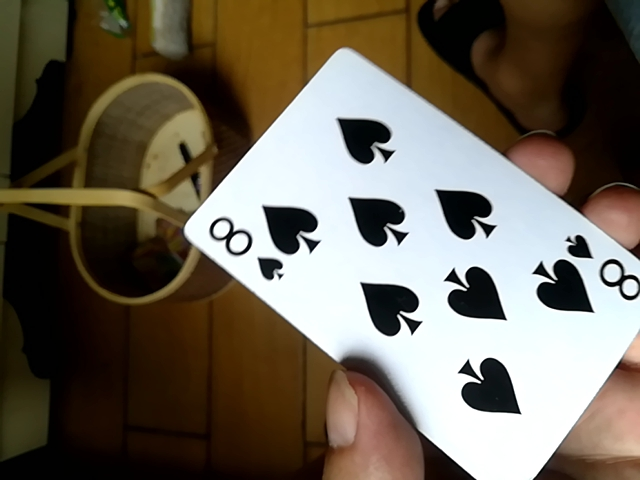ht 8: (167, 41, 636, 473)
